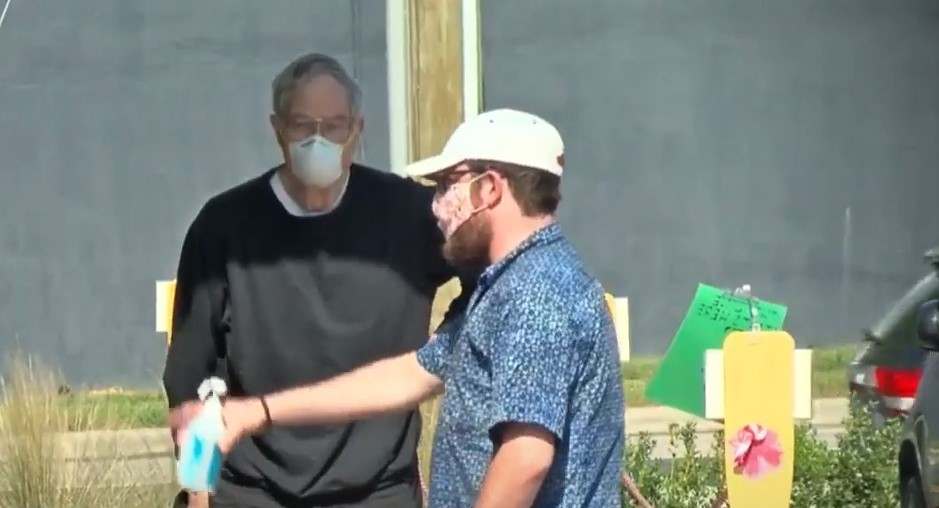face_with_mask: (416, 107, 567, 263), (273, 50, 370, 193)
